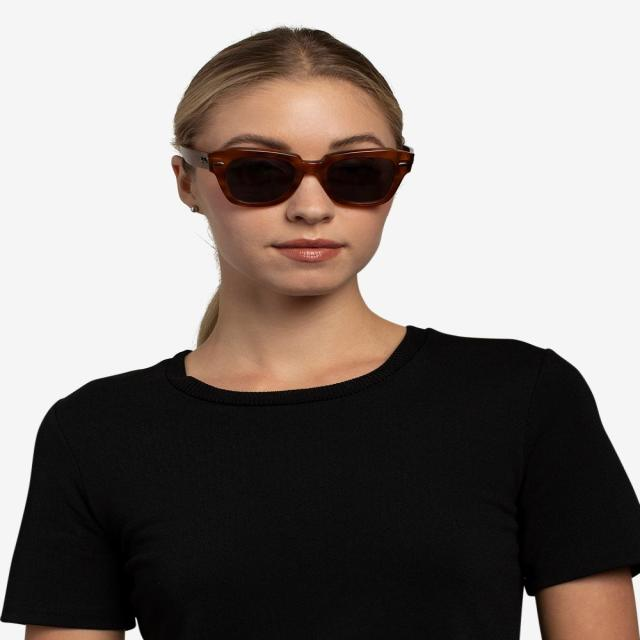2_gafas: (174, 141, 414, 208)
